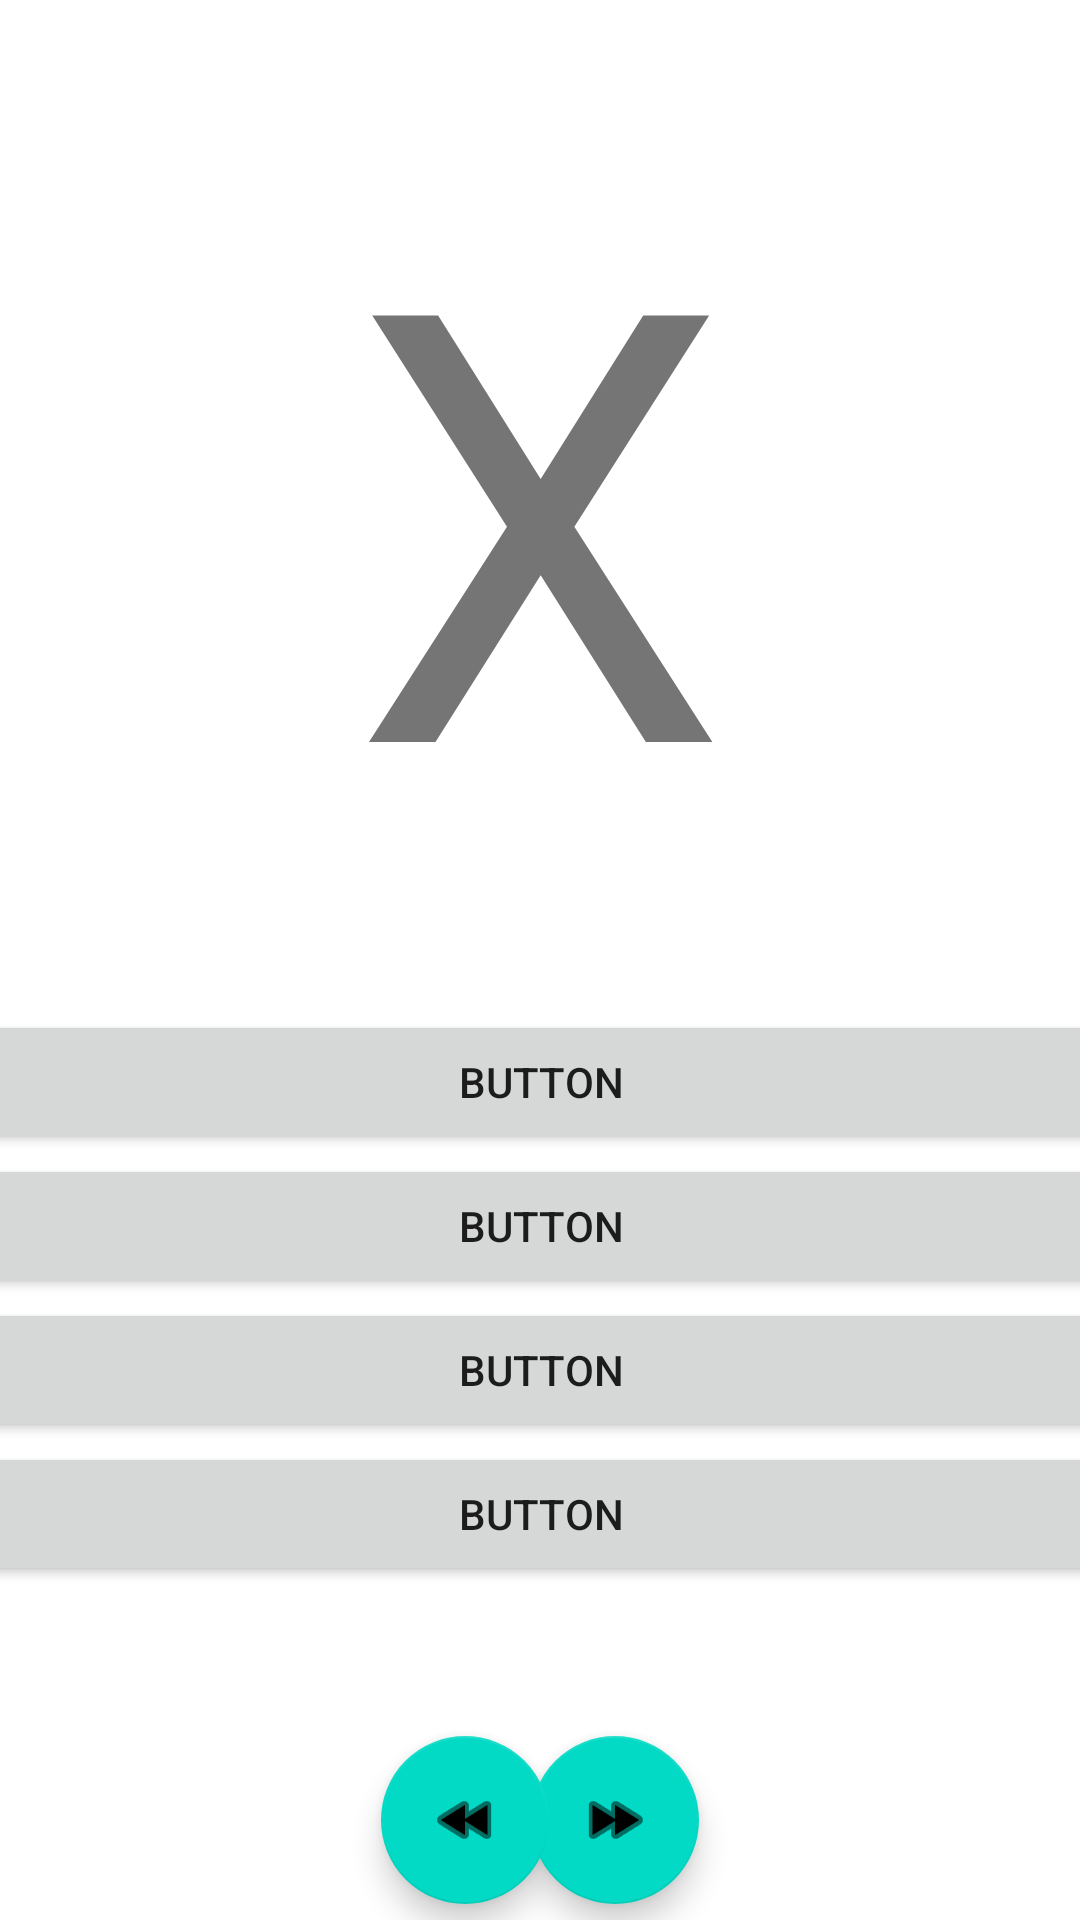

Icons on this 1080x1920 Android screen, each with the point to tap as [x,y]:
rew: [465,1820]
